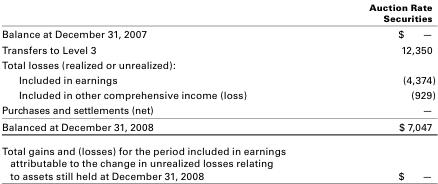table: (0, 0, 434, 181)
table column: (0, 0, 326, 181), (326, 0, 434, 181)
table column header: (0, 0, 434, 25)
table projected row header: (0, 56, 434, 71)
table row: (0, 138, 434, 181), (0, 0, 434, 25), (0, 117, 434, 138), (0, 25, 434, 41), (0, 86, 434, 102), (0, 41, 434, 56), (0, 56, 434, 71), (0, 71, 434, 86), (0, 102, 434, 117)
